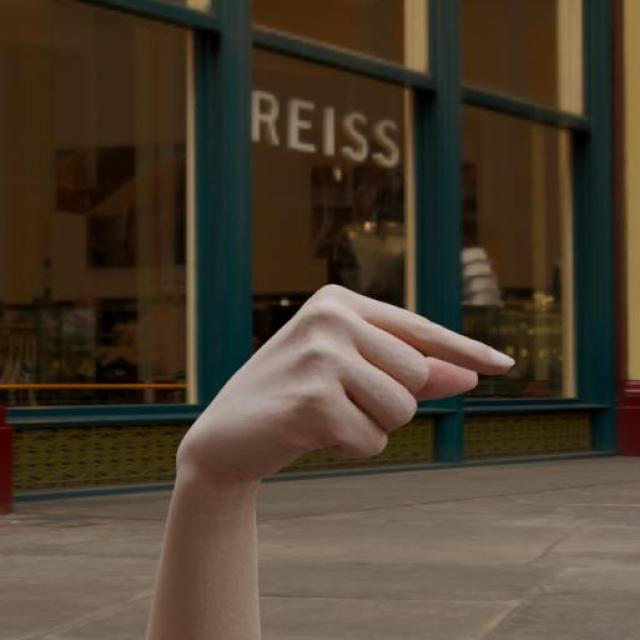G: (165, 274, 527, 546)
